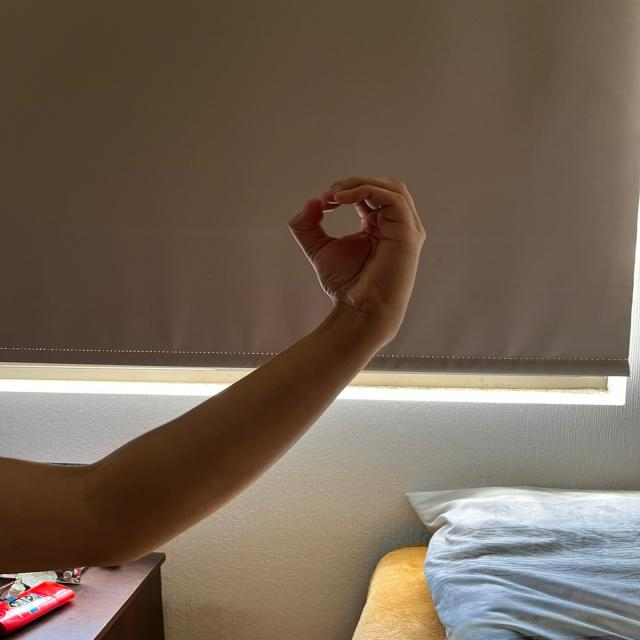O: (293, 171, 431, 310)
